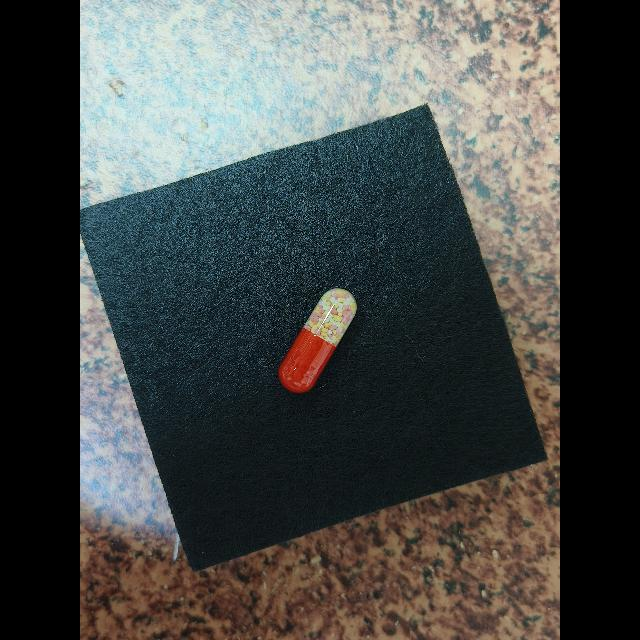Intact Capsule: (279, 288, 357, 393)
